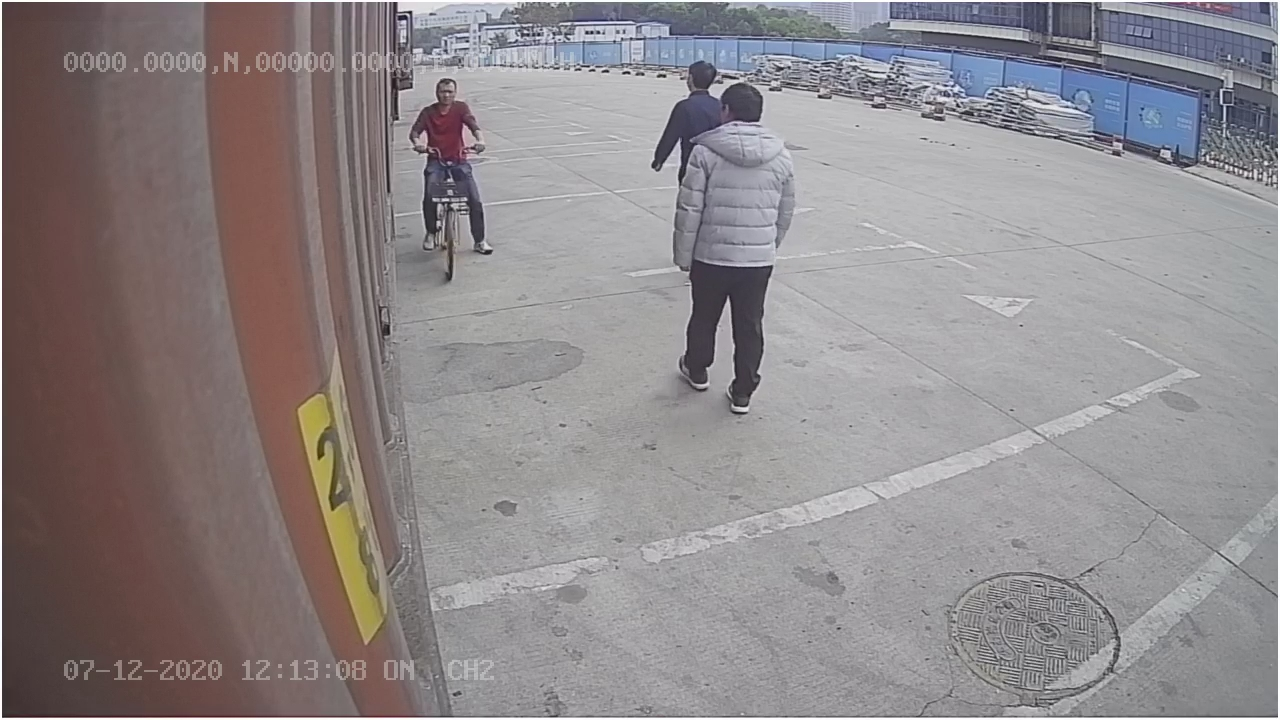person: (674, 84, 795, 416)
